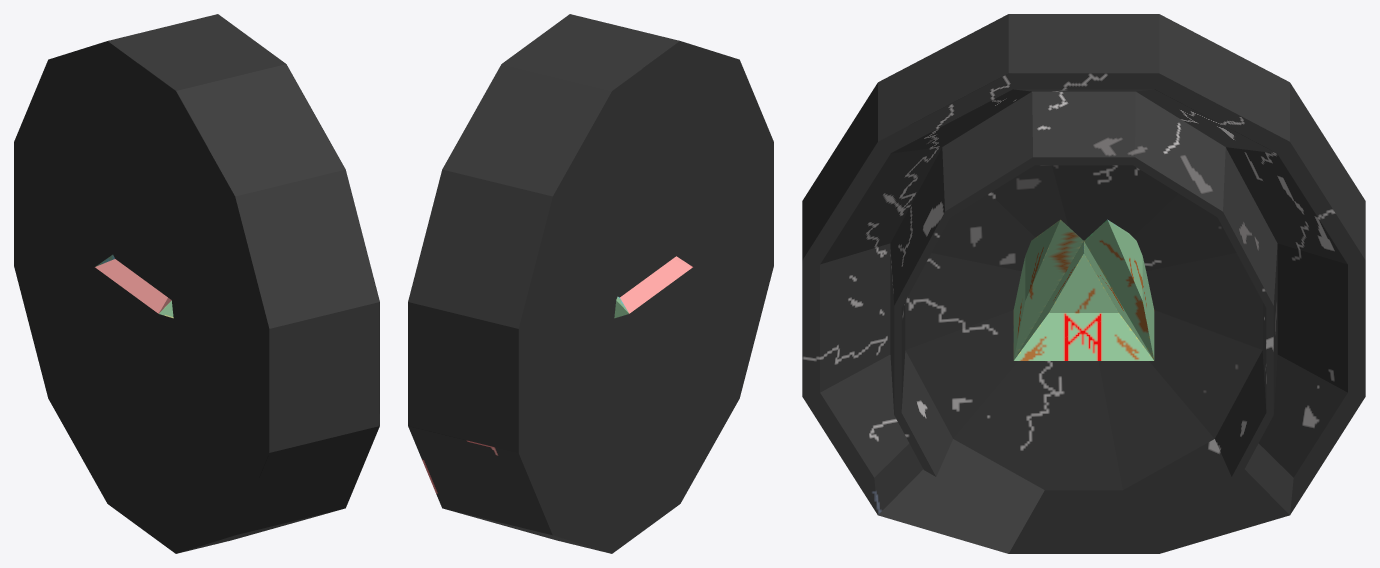
Rendered from Surtr's Temple's Door.fbx.
3 renders of one model, left to right at view 1: azimuth 30°, elevation 25°; view 2: azimuth 150°, elevation 25°; view 3: azimuth 270°, elevation 25°, orthographic. The views are drawn at different scales.
Parts seen in each view (by area): view 1: cylinder, pyramid; view 2: cylinder, pyramid; view 3: cylinder, pyramid.
Part boxes in pixels (bbox=[...]): cylinder: bbox=[14, 14, 379, 553]; pyramid: bbox=[95, 254, 173, 318]; cylinder: bbox=[408, 14, 773, 553]; pyramid: bbox=[614, 256, 692, 318]; cylinder: bbox=[802, 14, 1365, 553]; pyramid: bbox=[1013, 219, 1154, 360].
Size of the model in its own units: 28.39 by 100 by 100.
